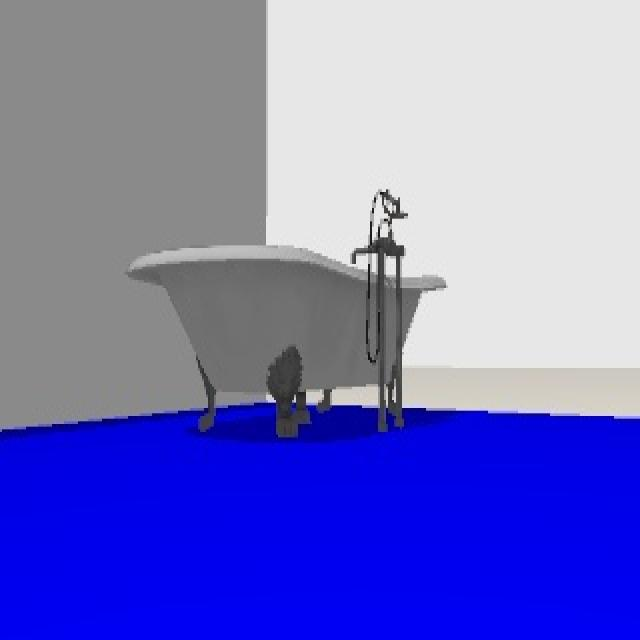bathtub: (124, 185, 447, 440)
